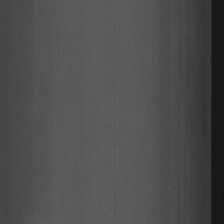inclusion: (172, 182, 181, 197)
